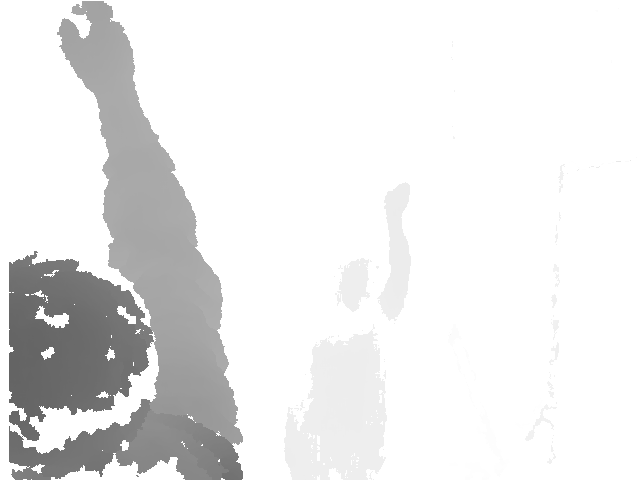hand: (53, 1, 145, 98), (384, 183, 412, 230)
head: (7, 250, 160, 460), (333, 260, 375, 311)
person: (9, 1, 245, 480), (283, 183, 412, 479)
